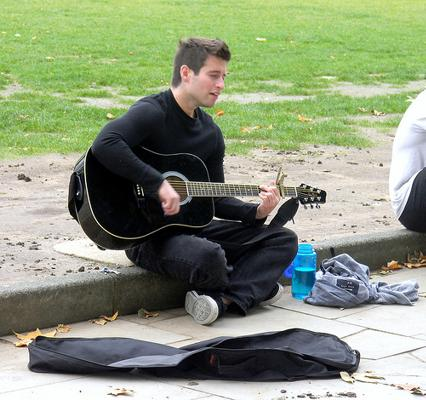person: (92, 37, 300, 328)
